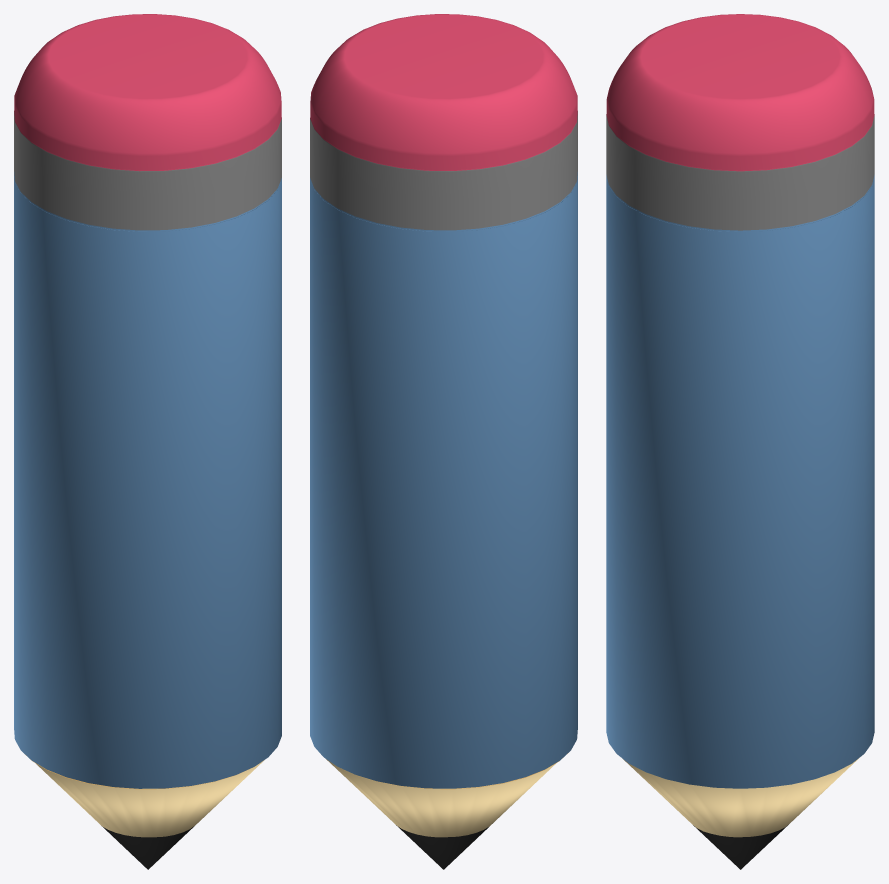
Rendered from pen.glb.
3 renders of one model, left to right at view 1: azimuth 30°, elevation 25°; view 2: azimuth 150°, elevation 25°; view 3: azimuth 270°, elevation 25°, orthographic.
Parts seen in each view (by area): view 1: pen; view 2: pen; view 3: pen.
Boxes of the visible parts, x1,y1,x2,y2 form: pen: (14, 14, 281, 869); pen: (310, 14, 577, 869); pen: (606, 14, 874, 869).
Bounding box in the file's own units: 0.7759 × 2.59 × 0.7759.
